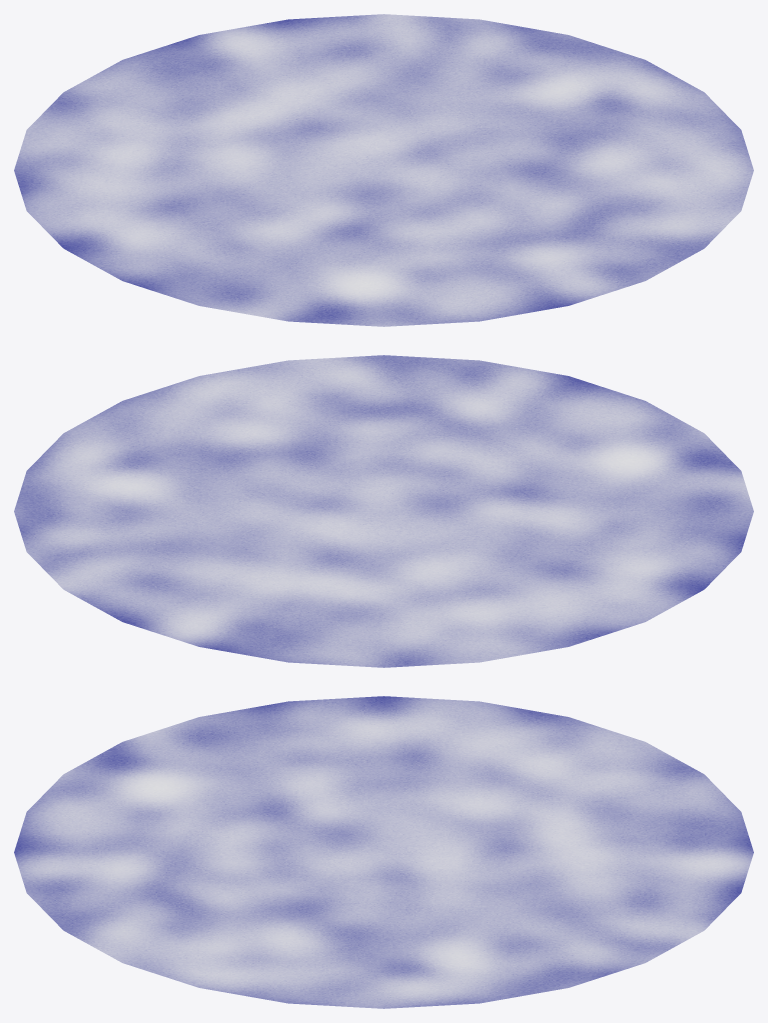
File: sky_floor2.fbx
3 renders of one model, top to bottom at view 1: azimuth 30°, elevation 25°; view 2: azimuth 150°, elevation 25°; view 3: azimuth 270°, elevation 25°, orthographic.
Parts seen in each view (by area): view 1: pDisc1; view 2: pDisc1; view 3: pDisc1.
Part boxes in pixels (x1,y1,x2,y2): pDisc1: (14, 14, 753, 326); pDisc1: (14, 355, 753, 667); pDisc1: (14, 696, 753, 1008).
Size of the model in its own units: 200 by 0 by 200.
Materials: 1 (1 with a texture image).
